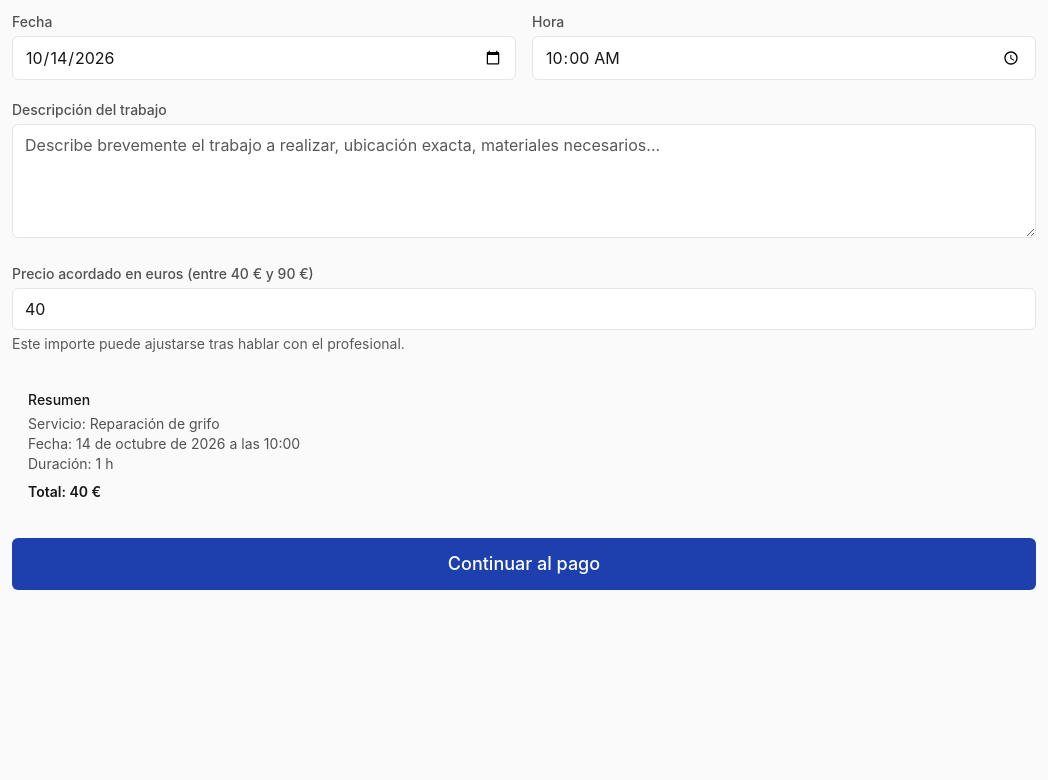
Test: BookingForm › con una descripción demasiado corta, el aviso propio sí aparece
Type "grifo" into the text box with placeholder "Describe brevemente el trabajo a realizar, ubicación exacta, materiales necesarios..." at (524, 181), box [12, 124, 1036, 238]
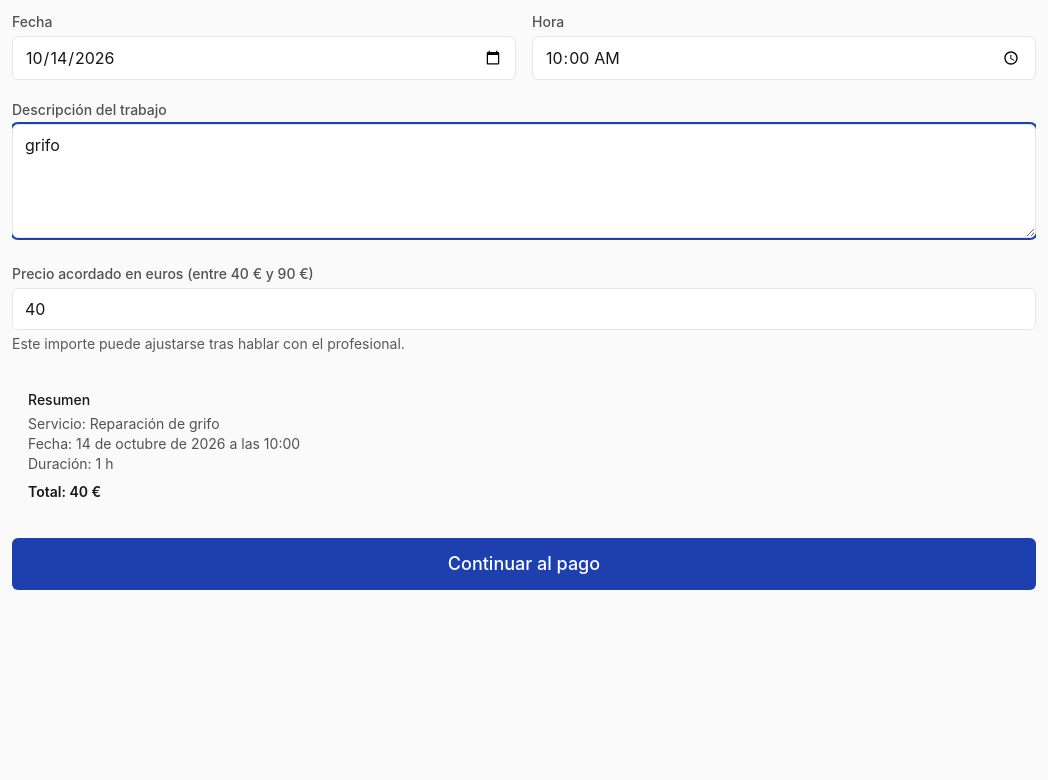
Click the button "Continuar al pago" at (524, 564), box [12, 538, 1036, 590]
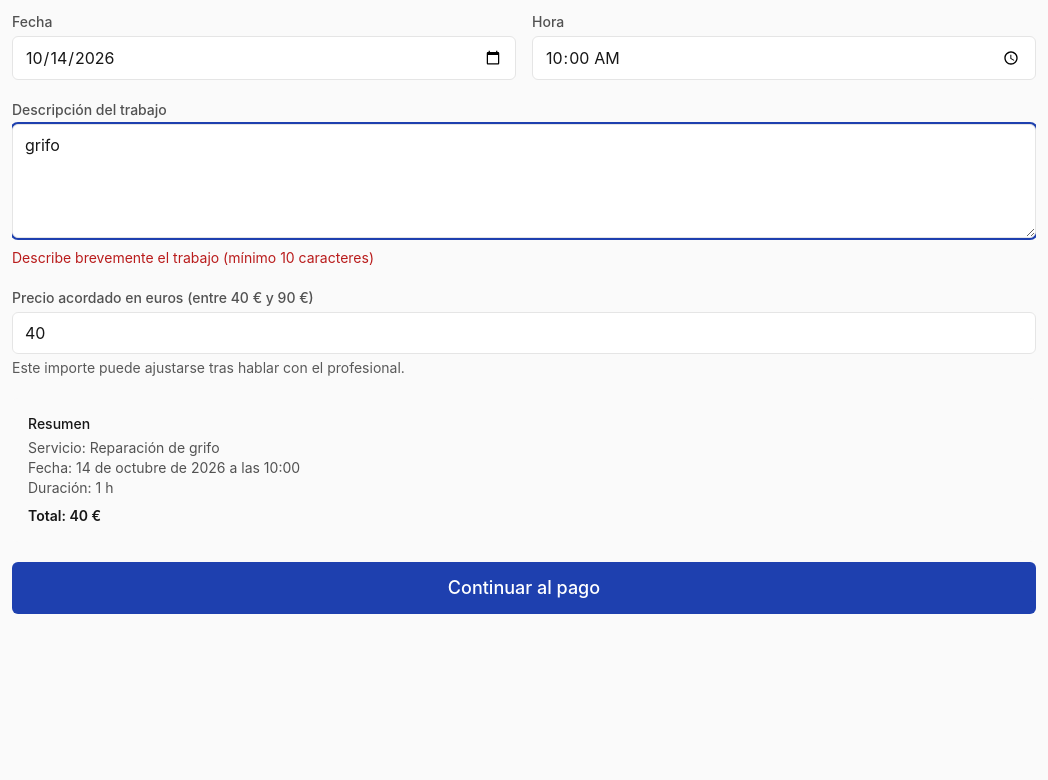
Expected: the text "Describe brevemente el trabajo (mínimo 10 caracteres)" is shown, [12, 249, 374, 266]
